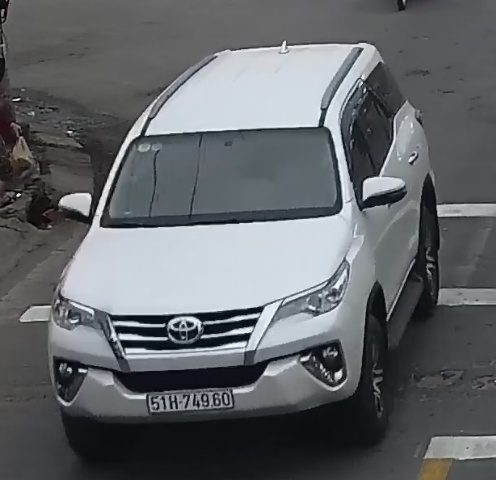vehicle plate: (141, 381, 244, 417)
